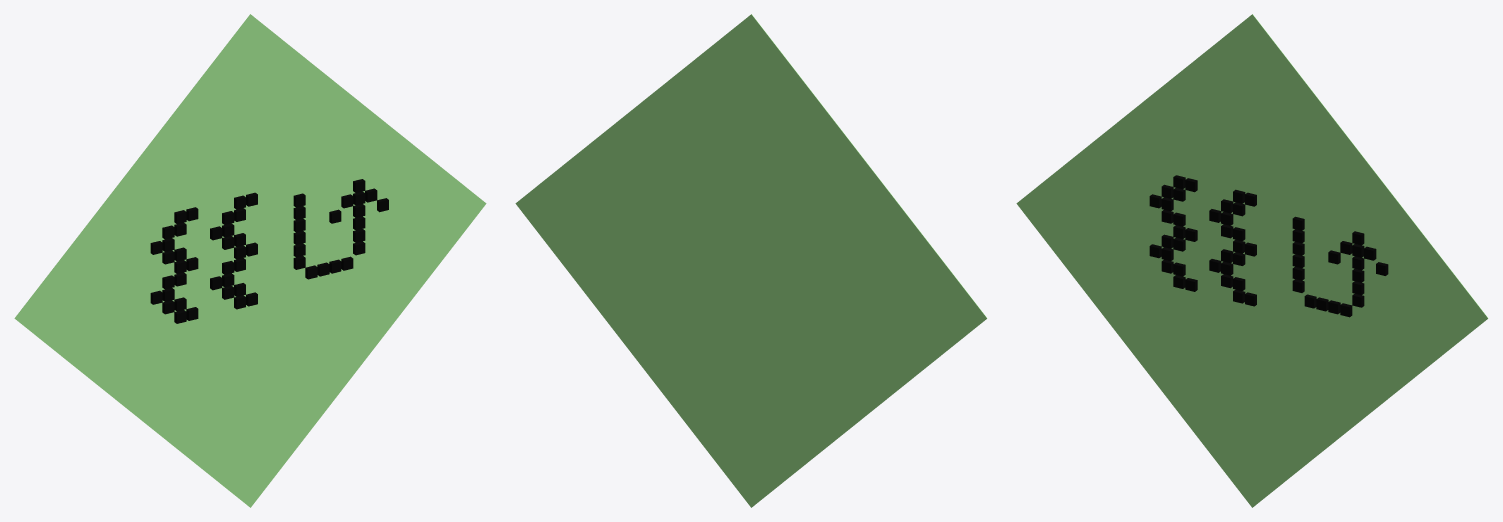
File: ClearMyShock.fbx
3 views of the same model, side by side, from view 1: azimuth 30°, elevation 25°; view 2: azimuth 150°, elevation 25°; view 3: azimuth 330°, elevation 25° (orthographic).
Parts seen in each view (by area): view 1: Cube.057; view 2: Cube.057; view 3: Cube.057.
Boxes of the visible parts, bbox=[...] form: Cube.057: bbox=[14, 14, 486, 507]; Cube.057: bbox=[515, 14, 987, 507]; Cube.057: bbox=[1016, 14, 1488, 507].
Size of the model in its own units: 198 by 198 by 2.1.
